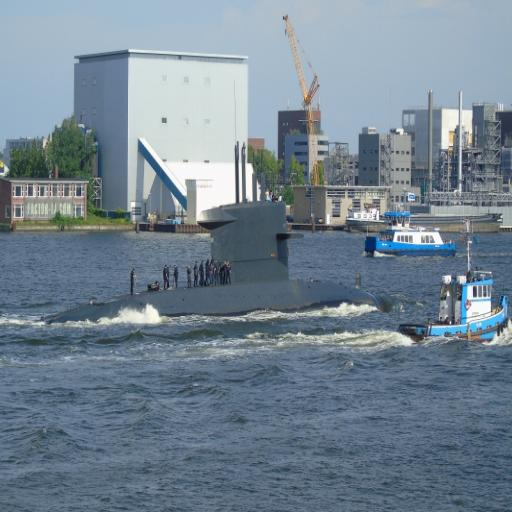submarine: (38, 139, 380, 324)
